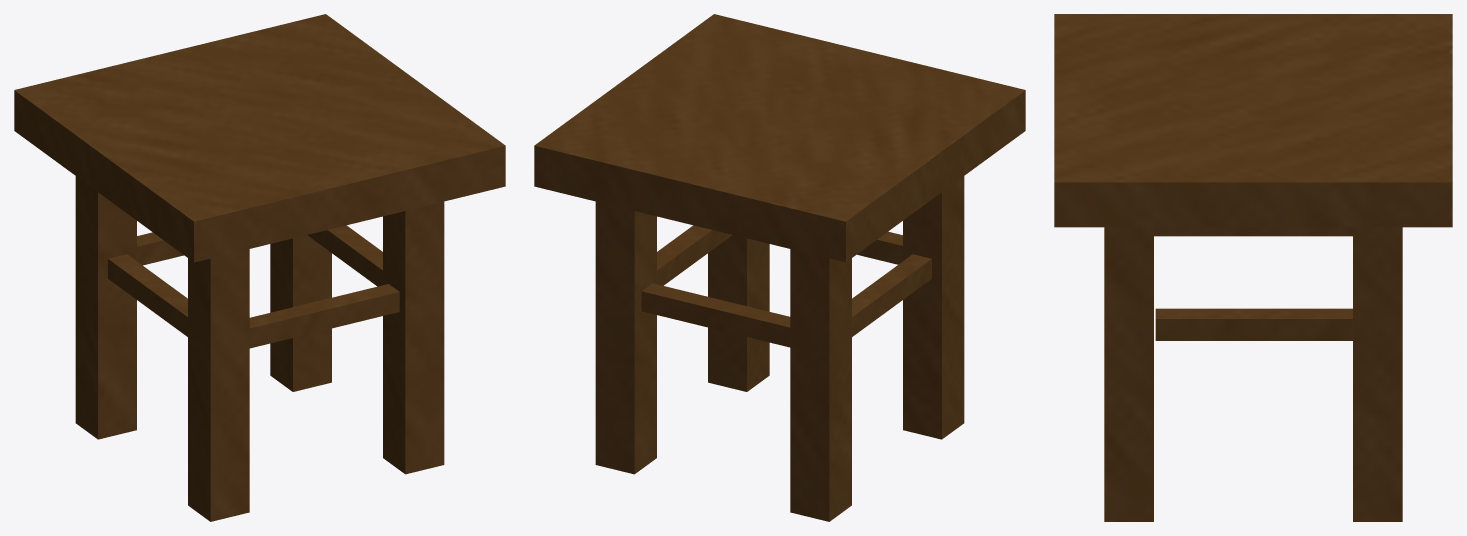
The model's file is kitchen_wooden_table.obj.
3 renders of one model, left to right at view 1: azimuth 30°, elevation 25°; view 2: azimuth 150°, elevation 25°; view 3: azimuth 270°, elevation 25°, orthographic. The views are drawn at different scales.
Visible parts, largest first — view 1: Cube.004; view 2: Cube.004; view 3: Cube.004.
Boxes of the visible parts, x1=… form: Cube.004: x1=14, y1=14, x2=505, y2=521; Cube.004: x1=534, y1=14, x2=1025, y2=521; Cube.004: x1=1054, y1=14, x2=1452, y2=521.
Bounding box in the file's own units: 2 × 2 × 2.
